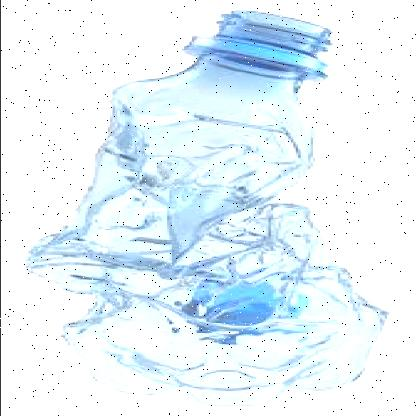Plastic Bottle: (26, 8, 390, 408), (56, 201, 390, 407)
